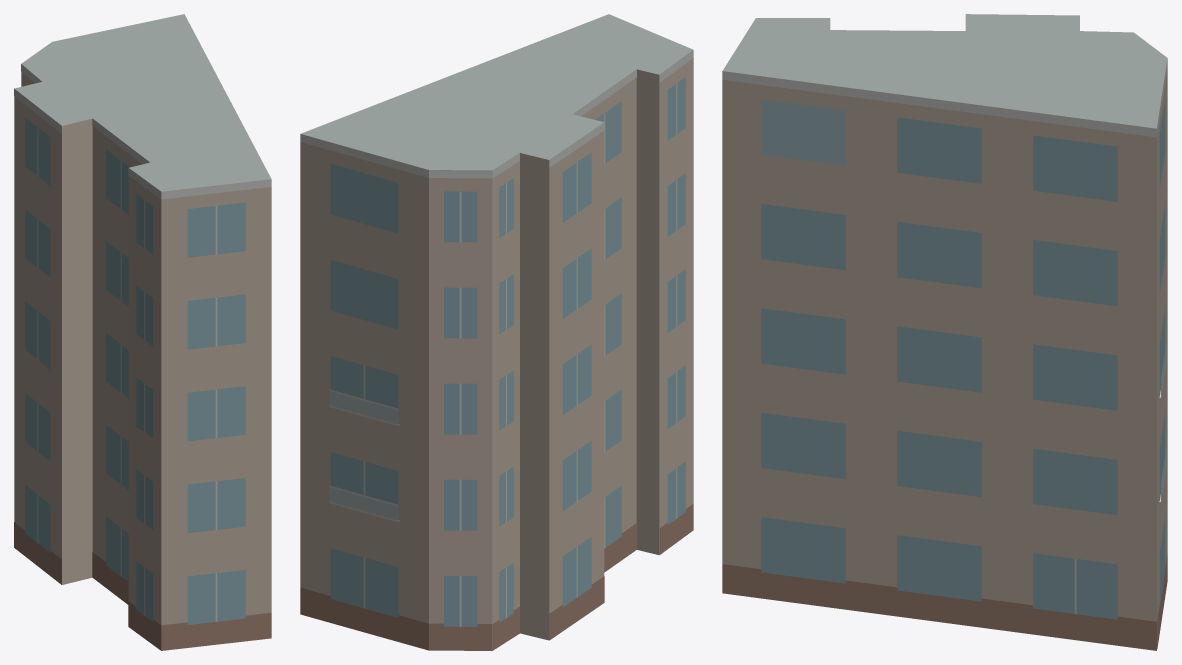
File: survey-upis-32681460.glb
The picture shows the model from 3 angles, left to right: view 1: azimuth 30°, elevation 25°; view 2: azimuth 150°, elevation 25°; view 3: azimuth 270°, elevation 25°; orthographic projection. The views are drawn at different scales.
Visible parts, largest first — view 1: survey-upis-32681460.tmp; view 2: survey-upis-32681460.tmp; view 3: survey-upis-32681460.tmp.
Boxes of the visible parts, box(x1,y1,x2,y2) form: survey-upis-32681460.tmp: box(14, 14, 271, 650); survey-upis-32681460.tmp: box(300, 14, 693, 650); survey-upis-32681460.tmp: box(722, 14, 1167, 650).
Bounding box in the file's own units: 6.86 × 14.55 × 11.25.
